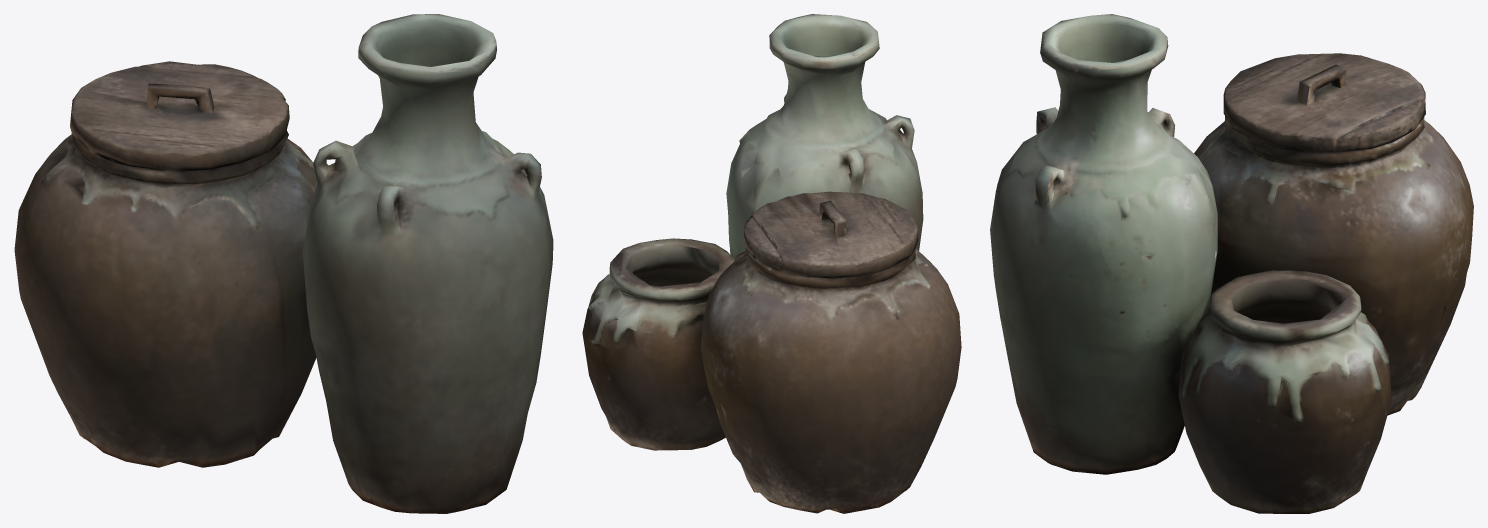
Rendered from CeramicJars.gltf.
The picture shows the model from 3 angles, left to right: view 1: azimuth 30°, elevation 25°; view 2: azimuth 150°, elevation 25°; view 3: azimuth 270°, elevation 25°; orthographic projection. The views are drawn at different scales.
Parts seen in each view (by area): view 1: lo; view 2: lo; view 3: lo.
Boxes of the visible parts, x1,y1,x2,y2 form: lo: [14, 14, 553, 513]; lo: [582, 14, 961, 513]; lo: [990, 14, 1473, 513].
Size of the model in its own units: 1.17 by 1.06 by 1.15.
Materials: 1 (1 with a texture image).
